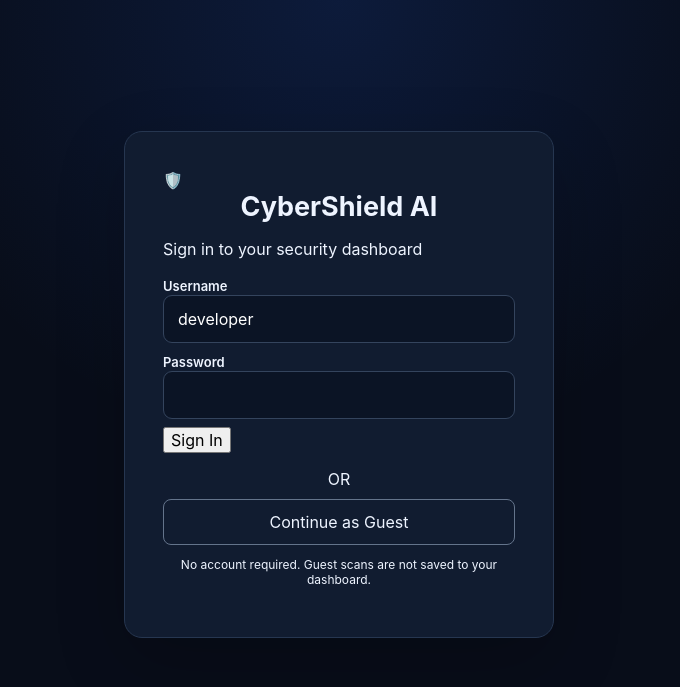
it: CyberShield AI Login › shows an error for invalid credentials
In the password field labelled "Password": coordinates (339, 394) [163,370,515,418], type "wrong-password"
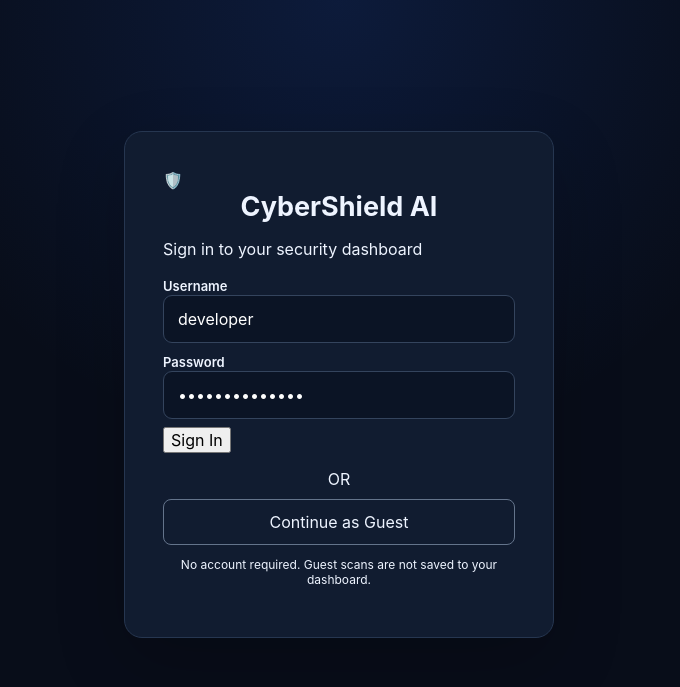
Click the button "Sign In": coordinates (197, 440) [163,426,231,452]
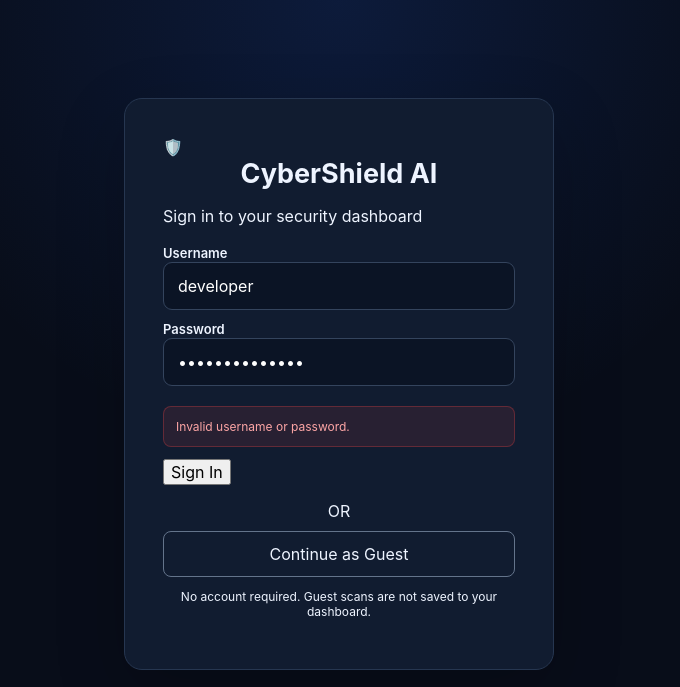
Expected: the text "Invalid username or password." is shown, [163,406,515,447]
